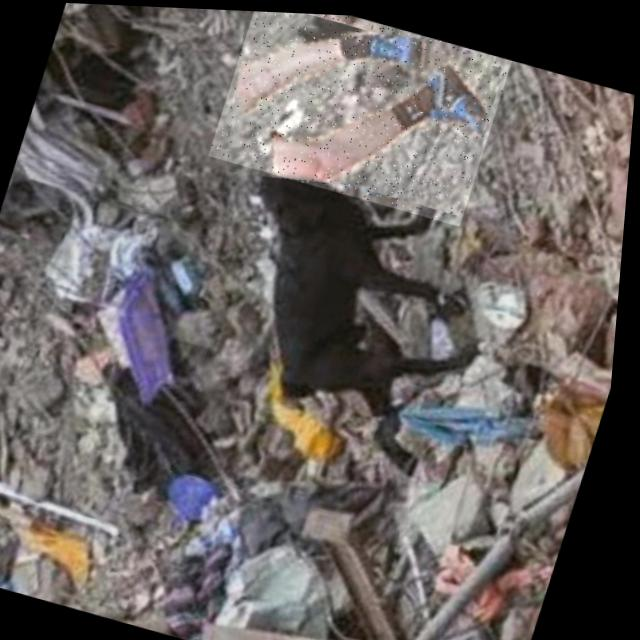Person in Rubble: (207, 8, 515, 222)
